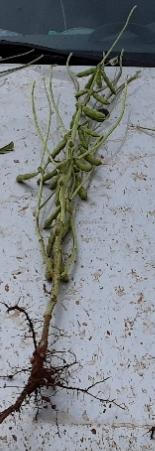soja: (102, 65, 122, 97), (46, 138, 72, 162), (79, 103, 109, 120), (41, 206, 62, 230), (76, 177, 95, 203), (44, 228, 57, 260), (81, 152, 104, 169), (38, 167, 62, 183), (15, 170, 40, 185), (76, 158, 94, 177), (70, 67, 99, 78), (59, 265, 74, 284), (58, 222, 71, 243), (77, 129, 90, 150), (64, 196, 78, 215), (93, 92, 110, 107), (80, 129, 103, 138), (43, 262, 52, 281), (72, 89, 89, 99), (48, 178, 60, 190), (92, 77, 104, 87)
